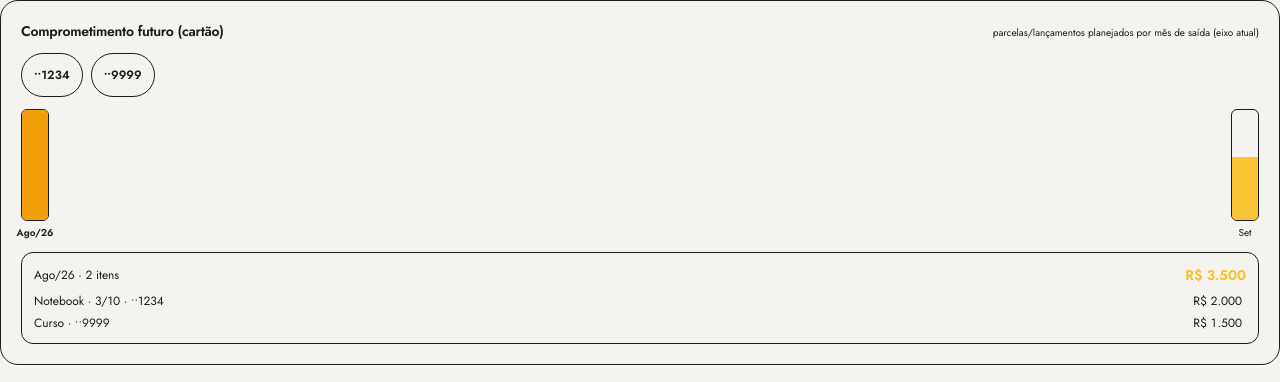
Test: ComprometimentoFuturo › filtra os valores por cartão quando o usuário seleciona um cartão específico
Click the button "••9999".
click(123, 75)  # box [91,53,155,97]
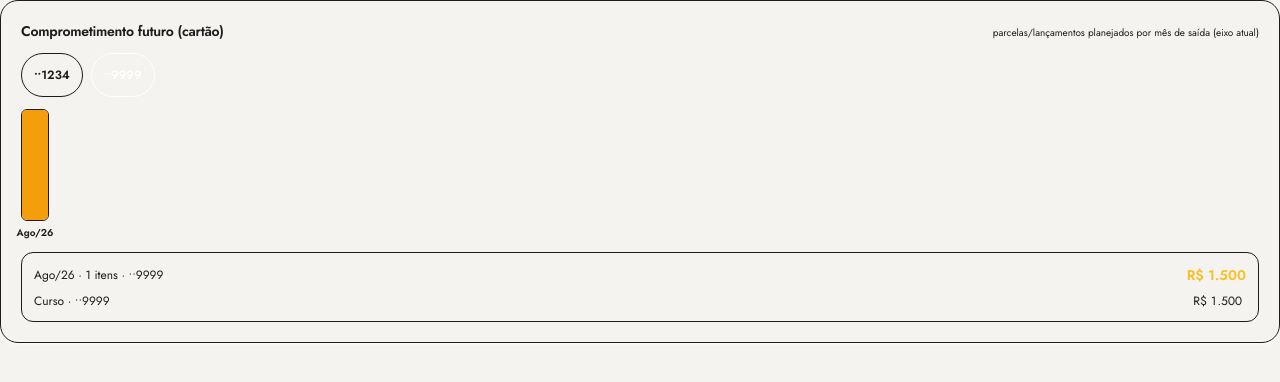
Expected: the text "Curso · ••9999" is shown, [34,293,110,309]
Expected: the text "R$ 1.500" in the row of "itens" is shown, [1187,265,1246,285]
Expected: the text "Notebook" is gone
